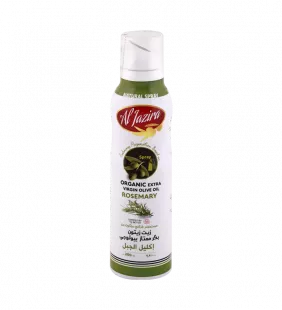AL JAZIRA: (99, 20, 181, 285)
